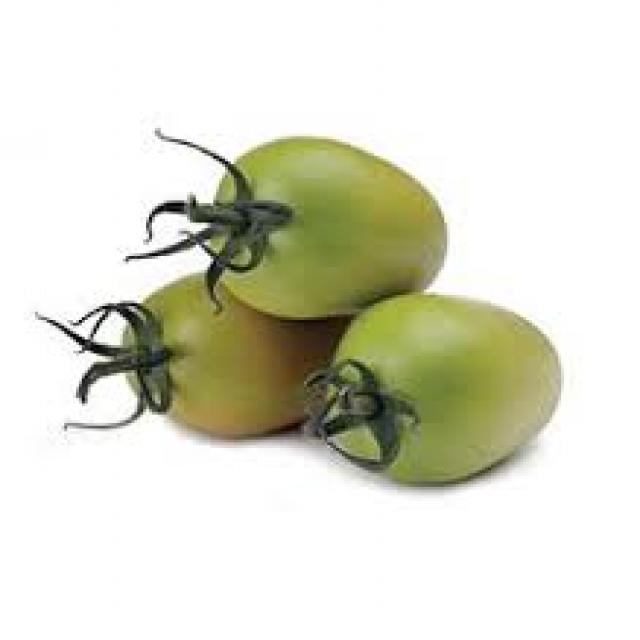organic waste: (310, 289, 564, 487), (196, 131, 447, 314), (105, 270, 348, 431)
